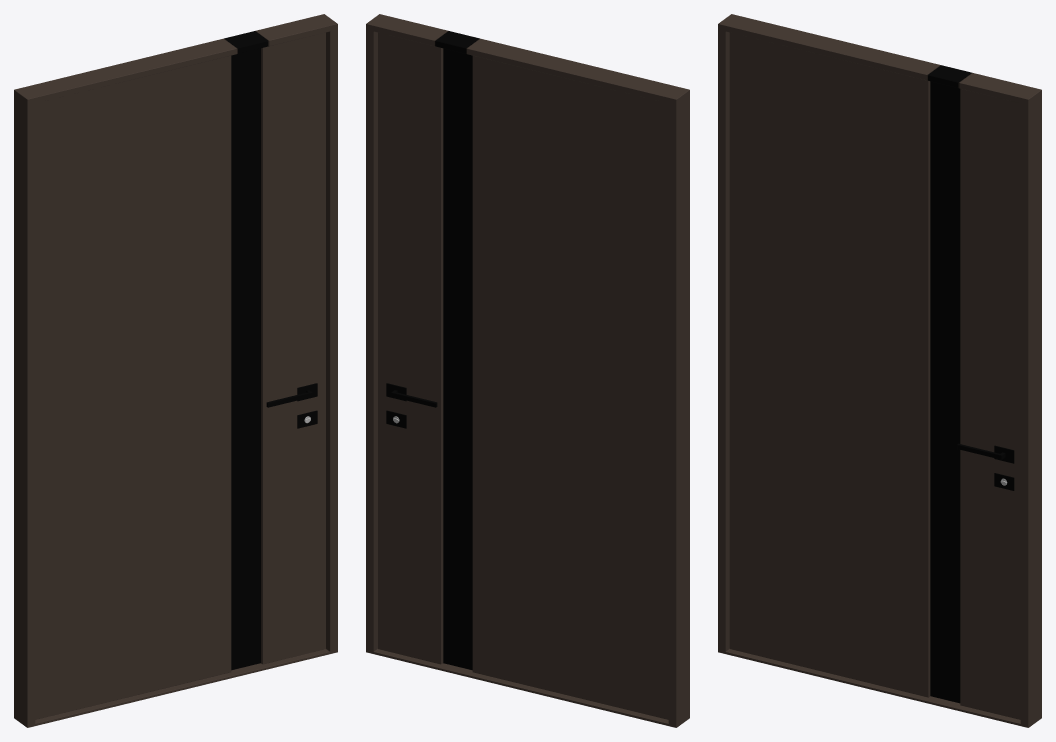
3 renders of one model, left to right at view 1: azimuth 30°, elevation 25°; view 2: azimuth 150°, elevation 25°; view 3: azimuth 330°, elevation 25°, orthographic.
Visible parts, largest first — view 1: 1004Door01; view 2: 1004Door01; view 3: 1004Door01.
Part boxes in pixels (bbox=[...]): 1004Door01: bbox=[14, 14, 337, 727]; 1004Door01: bbox=[366, 14, 689, 727]; 1004Door01: bbox=[718, 14, 1041, 727].
Bounding box in the file's own units: 1.05 × 2.04 × 0.0873.
Materials: 1 (1 with a texture image).
